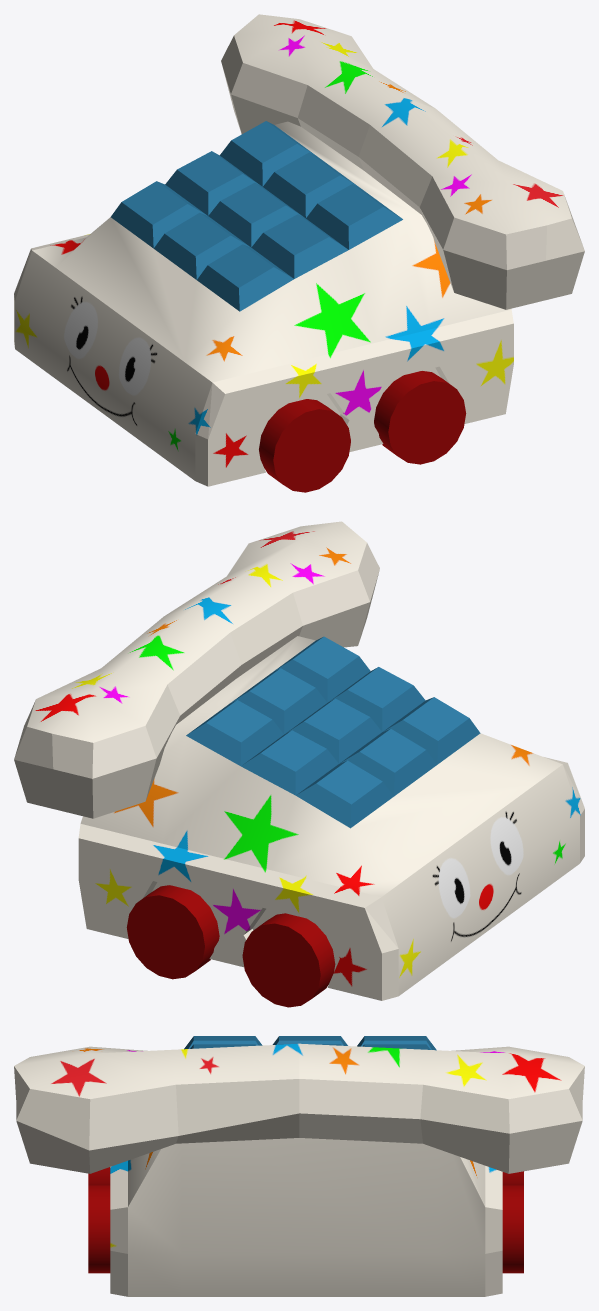
Rendered from telefonoT.FBX.
3 renders of one model, top to bottom at view 1: azimuth 30°, elevation 25°; view 2: azimuth 150°, elevation 25°; view 3: azimuth 270°, elevation 25°, orthographic.
Visible parts, largest first — view 1: Cuerpo, Mando, Rueda_01; view 2: Cuerpo, Mando, Rueda_01; view 3: Cuerpo, Mando, Rueda_01.
Boxes of the visible parts, left/top/right/bottom form: Cuerpo: left=14, top=121, right=513, bottom=486; Mando: left=221, top=14, right=584, bottom=309; Rueda_01: left=259, top=371, right=466, bottom=492; Cuerpo: left=78, top=636, right=584, bottom=1000; Mando: left=14, top=521, right=379, bottom=818; Rueda_01: left=126, top=885, right=335, bottom=1007; Cuerpo: left=110, top=1036, right=502, bottom=1296; Mando: left=14, top=1043, right=584, bottom=1173; Rueda_01: left=88, top=1167, right=523, bottom=1273.
Size of the model in its own units: 35.34 by 25.08 by 49.
2 materials, 1 textured.
